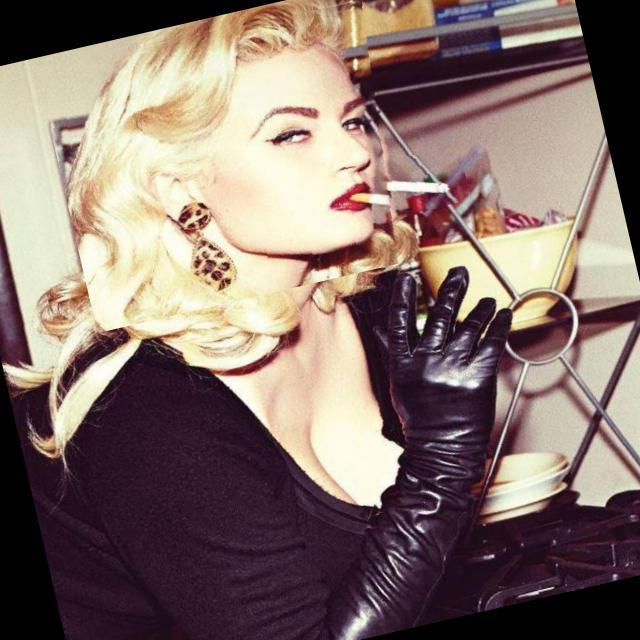cigarette: (352, 145, 472, 228)
